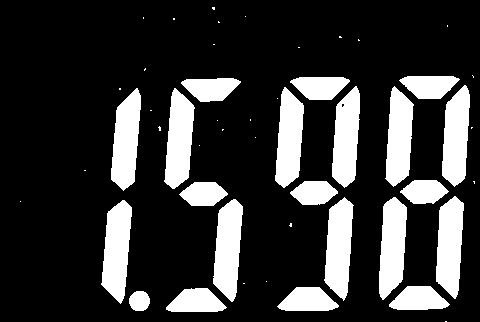1: (95, 84, 143, 304)
5: (160, 73, 253, 315)
8: (378, 71, 472, 310)
9: (270, 76, 364, 315)
dot: (127, 288, 153, 313)
